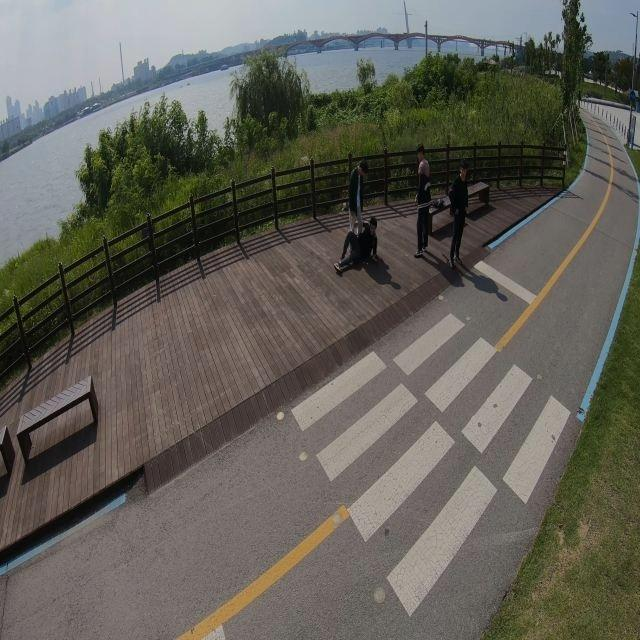fight: (334, 160, 380, 273)
non-fight: (412, 148, 435, 259), (444, 163, 468, 267)
